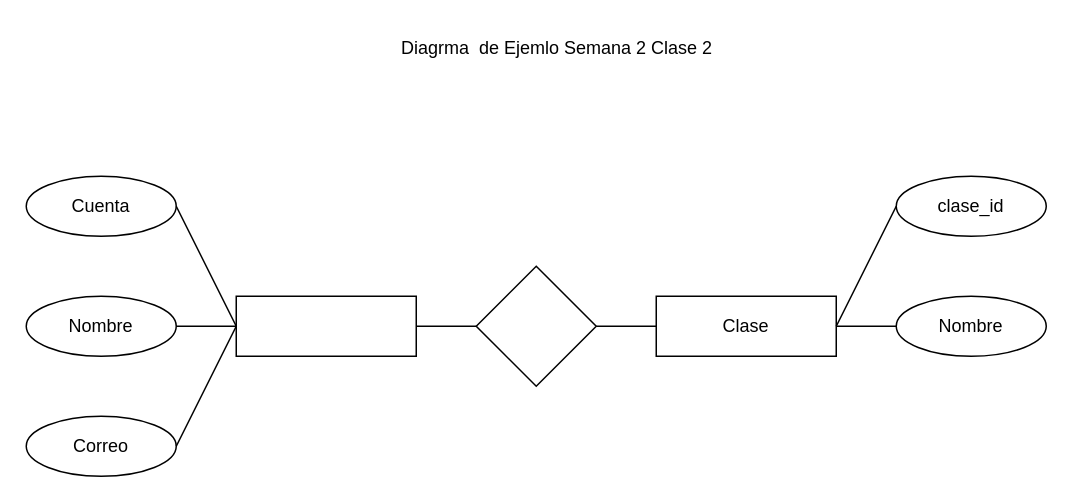
This 1073x503 diagram has some shape labels left out. Here are the shapes that lost their labels. From the top down, the centre of each, then its label:
the point at 325,325: Estudiante
the point at 535,325: Recibe
